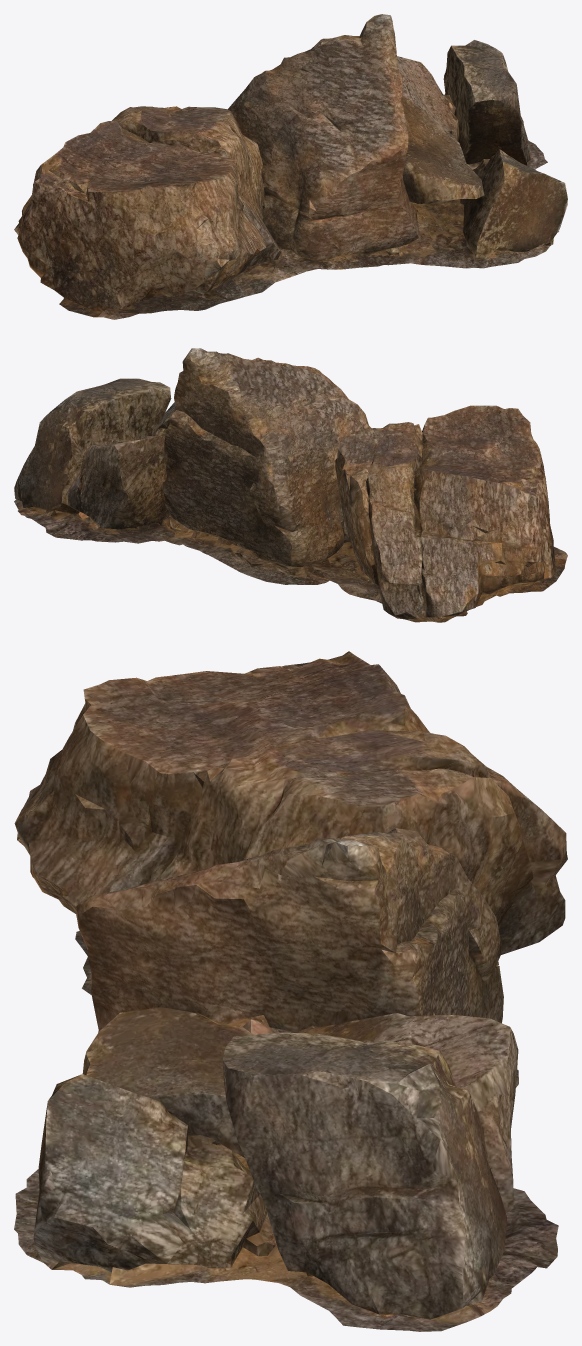
The model's file is boulder-granite.glb.
The picture shows the model from 3 angles, top to bottom: view 1: azimuth 30°, elevation 25°; view 2: azimuth 150°, elevation 25°; view 3: azimuth 270°, elevation 25°; orthographic projection. The views are drawn at different scales.
Parts seen in each view (by area): view 1: boulder-granite_LOD0; view 2: boulder-granite_LOD0; view 3: boulder-granite_LOD0.
Part boxes in pixels (x1,y1,x2,y2): boulder-granite_LOD0: (14, 14, 567, 319); boulder-granite_LOD0: (14, 348, 567, 622); boulder-granite_LOD0: (14, 651, 567, 1331).
Size of what is drawn, in the model's own units: 2.53 by 0.877 by 1.23.
1 material, 1 textured.
